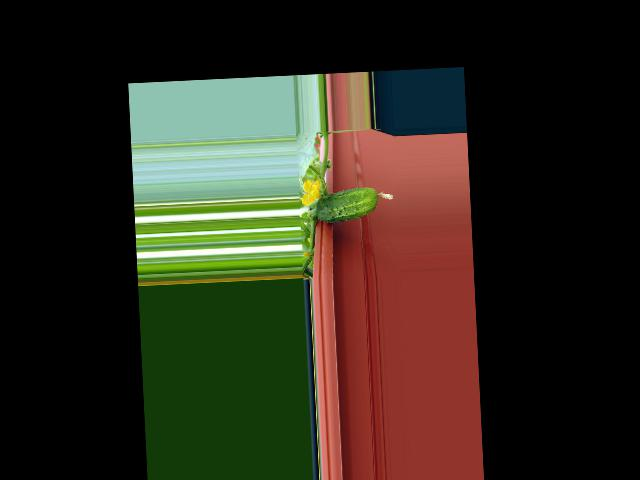cucumber: (314, 185, 395, 223)
